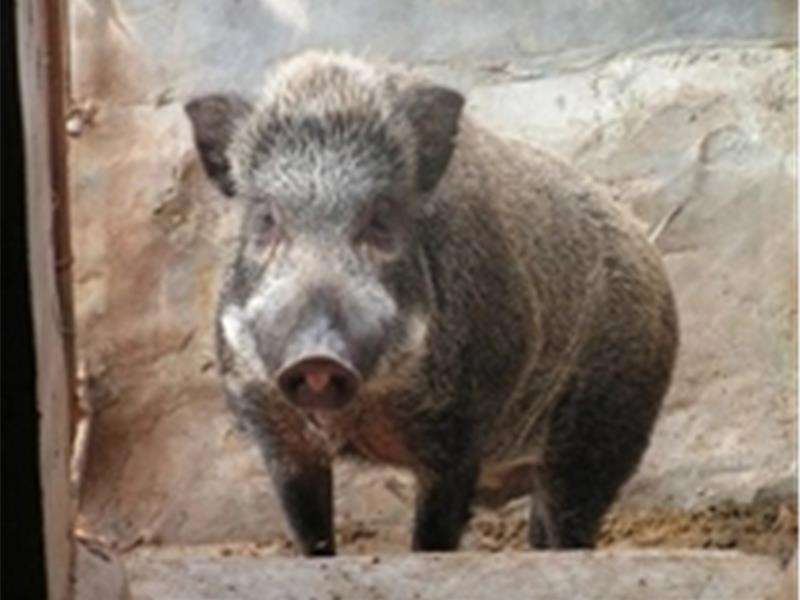boar: (175, 37, 688, 552)
